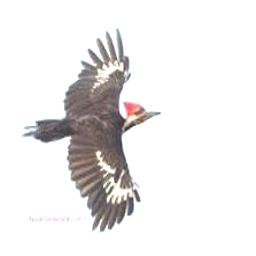Woodpecker: (21, 26, 160, 230)
